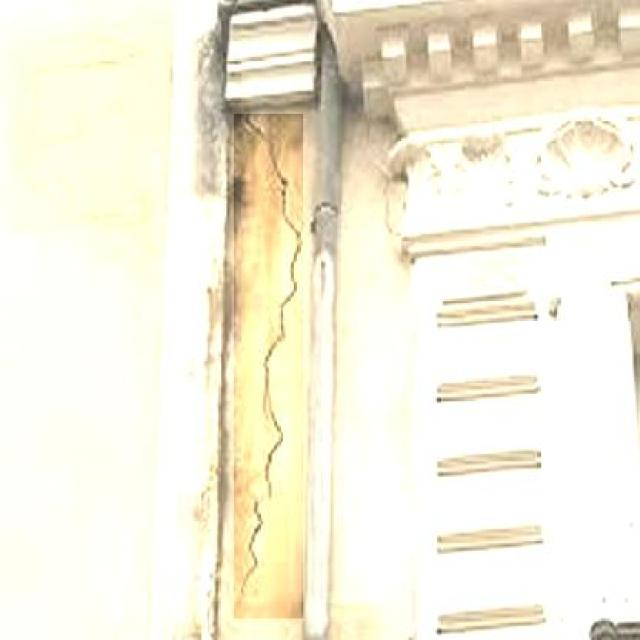Crack: (235, 113, 304, 622)
